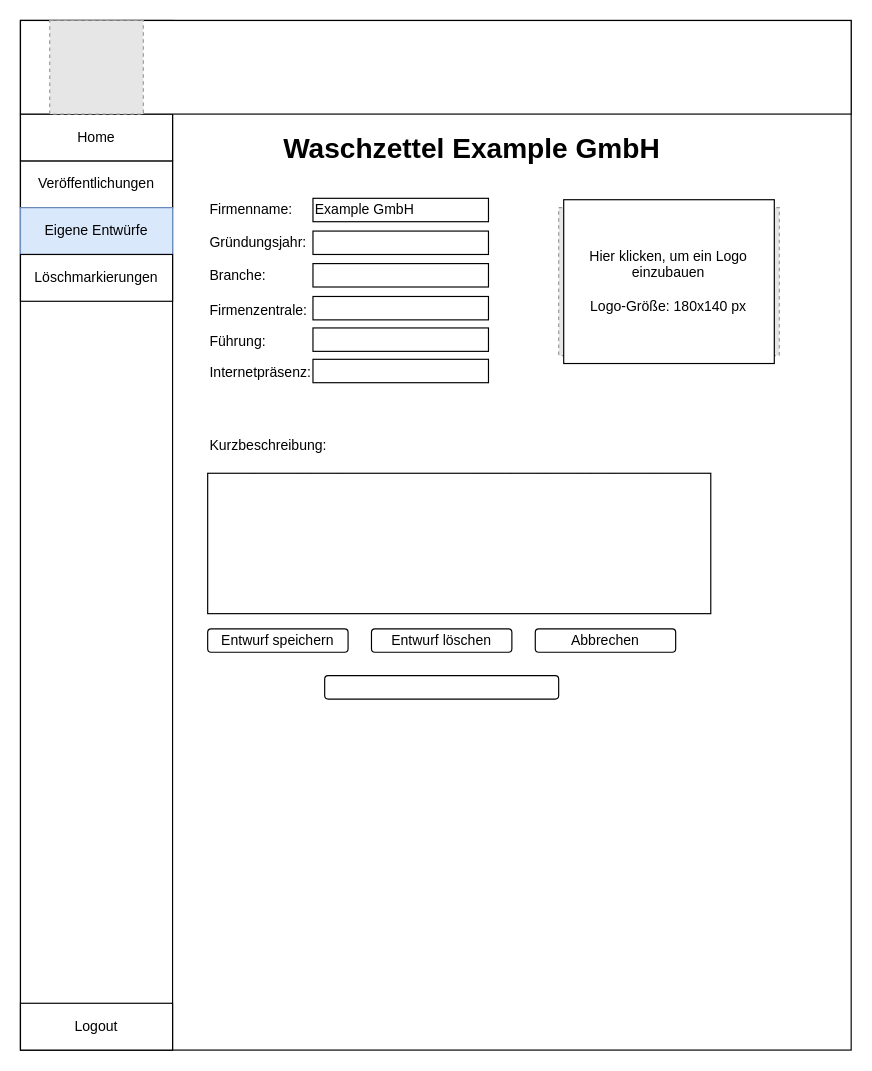
Image size: 872x1071. Some labels were removed from this diagram. Grey dashed boxes stand in for pictures. Here are the shapes that lost their labels. From the top down, the box of each, then its label:
(19, 19, 851, 114): Platzhalter für Logo
(324, 675, 559, 699): Entwurf Veröffentlichen
